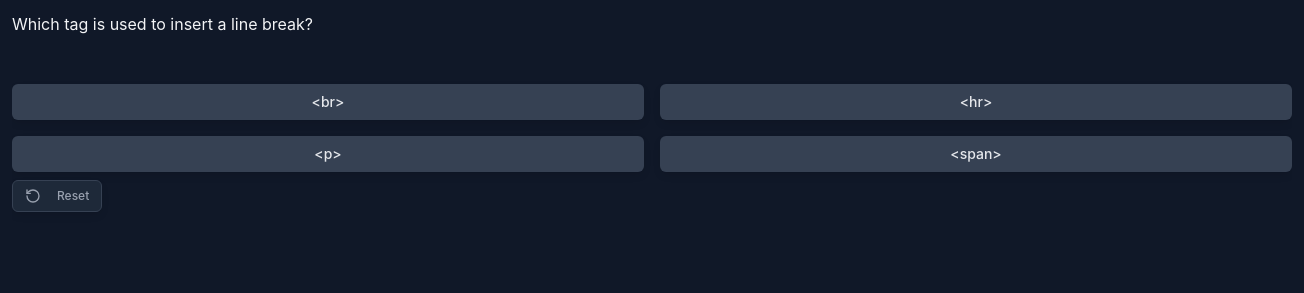
MDX pilot slice (migration 06) › MultipleChoiceQuiz records correctness through stepper callbacks
Expected: the button "<hr>" is shown, x1=660 y1=84 x2=1292 y2=120
Expected: the button "<p>" is shown, x1=12 y1=136 x2=644 y2=172
Click the button "<br>": click(328, 102) x1=12 y1=84 x2=644 y2=120
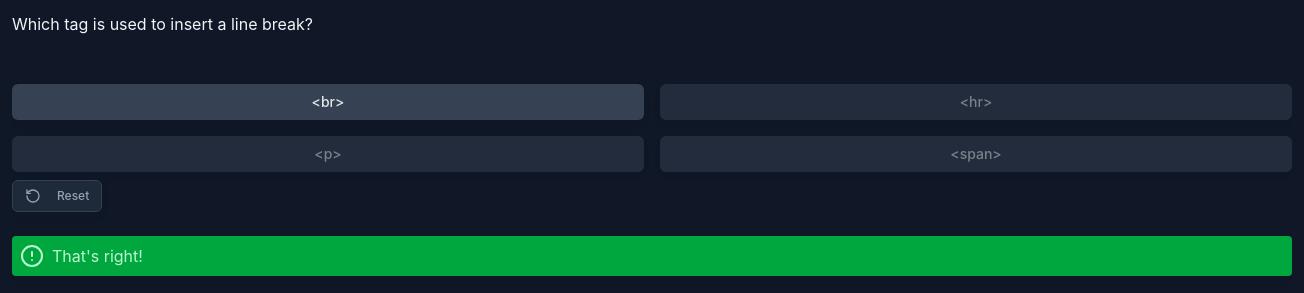
Expected: the text "That's right!" is shown, x1=20 y1=244 x2=143 y2=268
